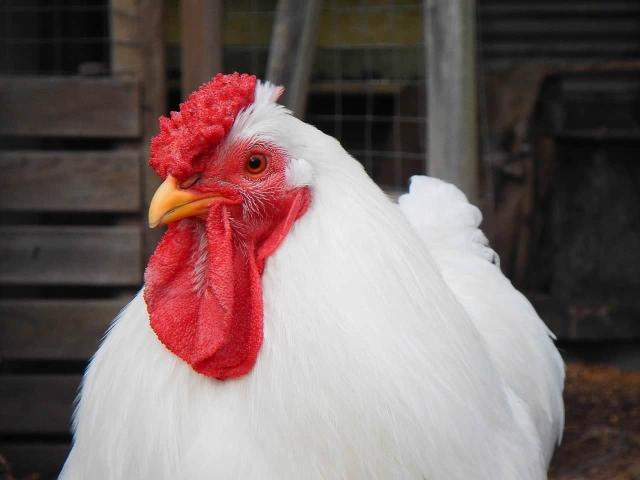Chicken: (55, 69, 564, 480)
